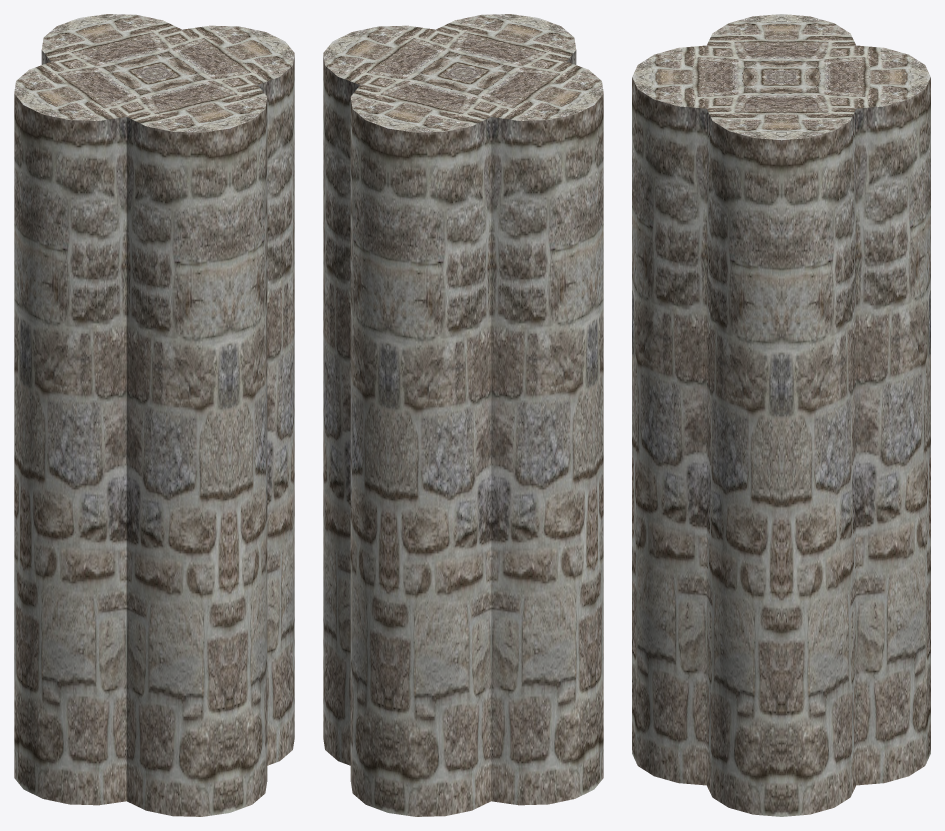
Rendered from wall_small4.obj.
3 renders of one model, left to right at view 1: azimuth 30°, elevation 25°; view 2: azimuth 150°, elevation 25°; view 3: azimuth 270°, elevation 25°, orthographic.
Size of the model in its own units: 0.8 by 2 by 0.8.
1 material, 1 textured.
